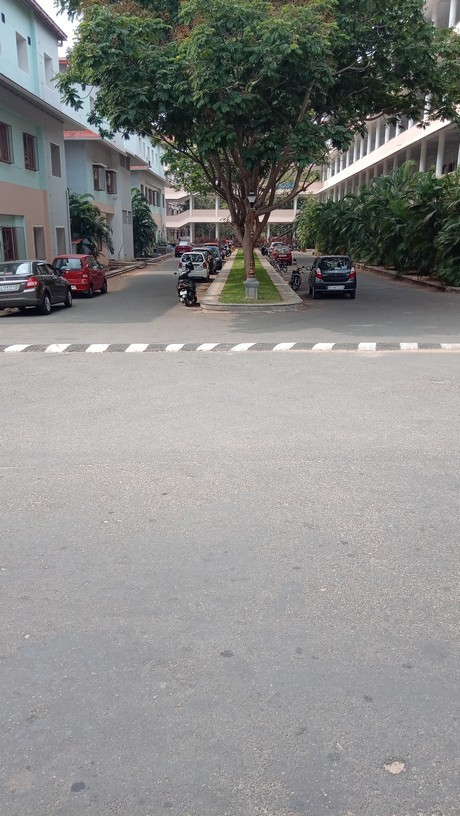bump: (1, 337, 460, 358)
